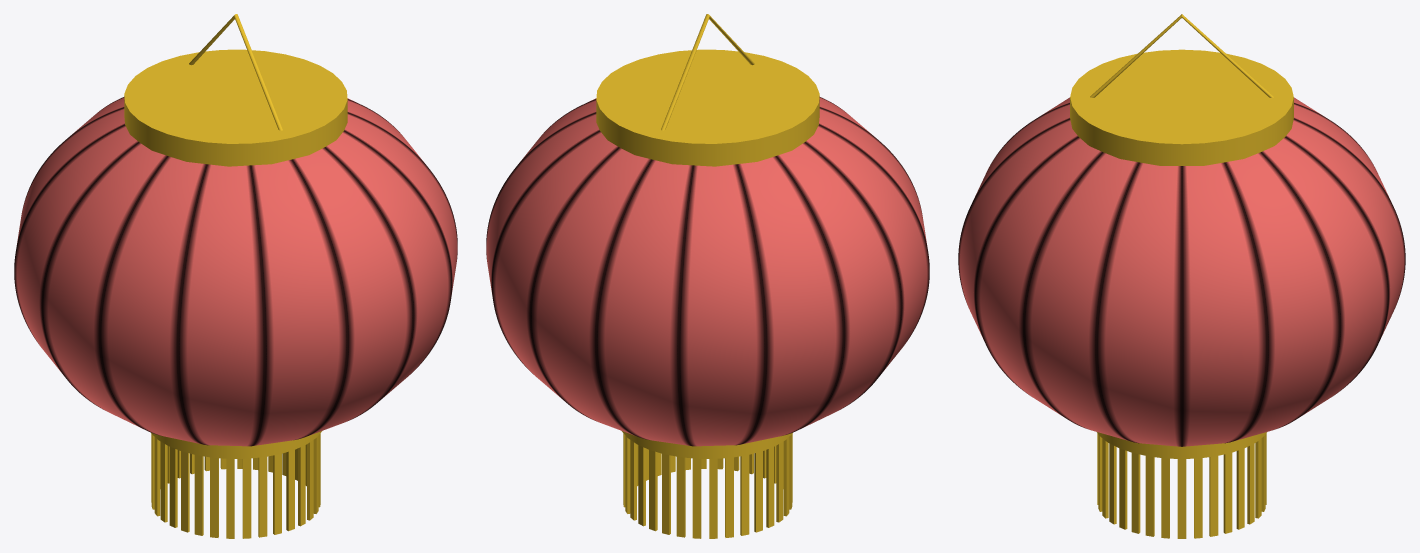
File: NYLantern.glb
3 views of the same model, side by side, from view 1: azimuth 30°, elevation 25°; view 2: azimuth 150°, elevation 25°; view 3: azimuth 270°, elevation 25° (orthographic).
Parts seen in each view (by area): view 1: mesh; view 2: mesh; view 3: mesh.
Boxes of the visible parts, bbox=[...] form: mesh: bbox=[14, 14, 457, 538]; mesh: bbox=[486, 14, 929, 538]; mesh: bbox=[958, 14, 1405, 538].
Size of the model in its own units: 2 by 2.41 by 2.
Materials: 1 (1 with a texture image).
